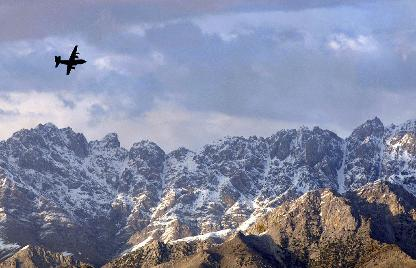Be200: (54, 45, 86, 74)
